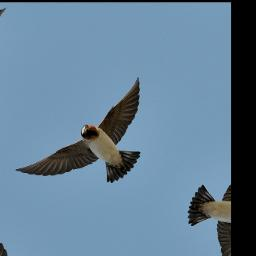Swallow: (13, 50, 178, 217)
